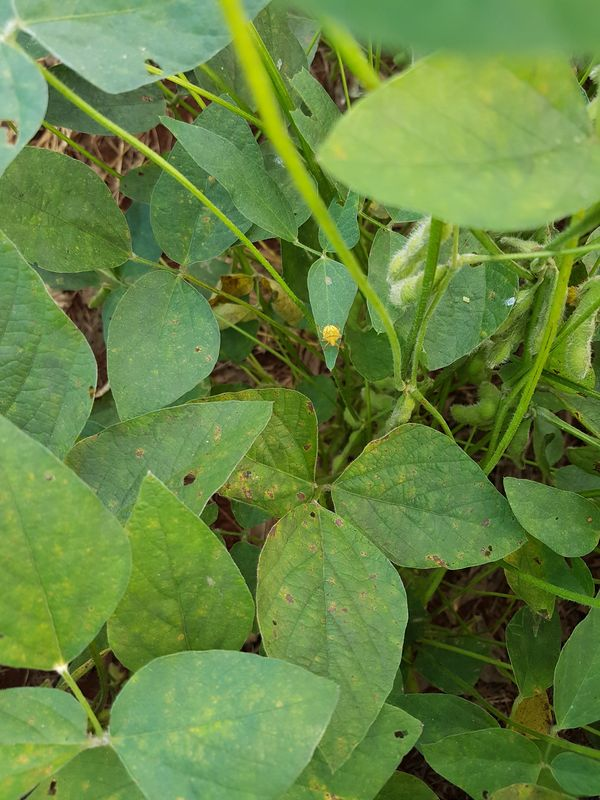Euschistus_heros_ninfa: (314, 319, 348, 352)
